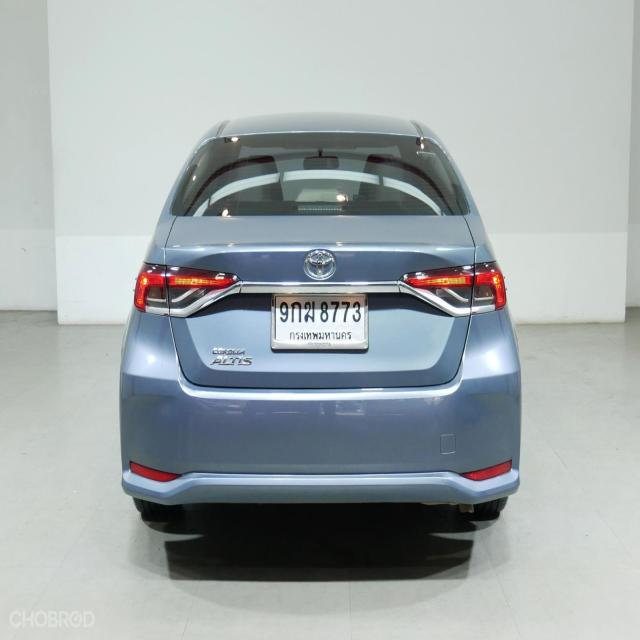license_plate: (272, 290, 369, 352)
